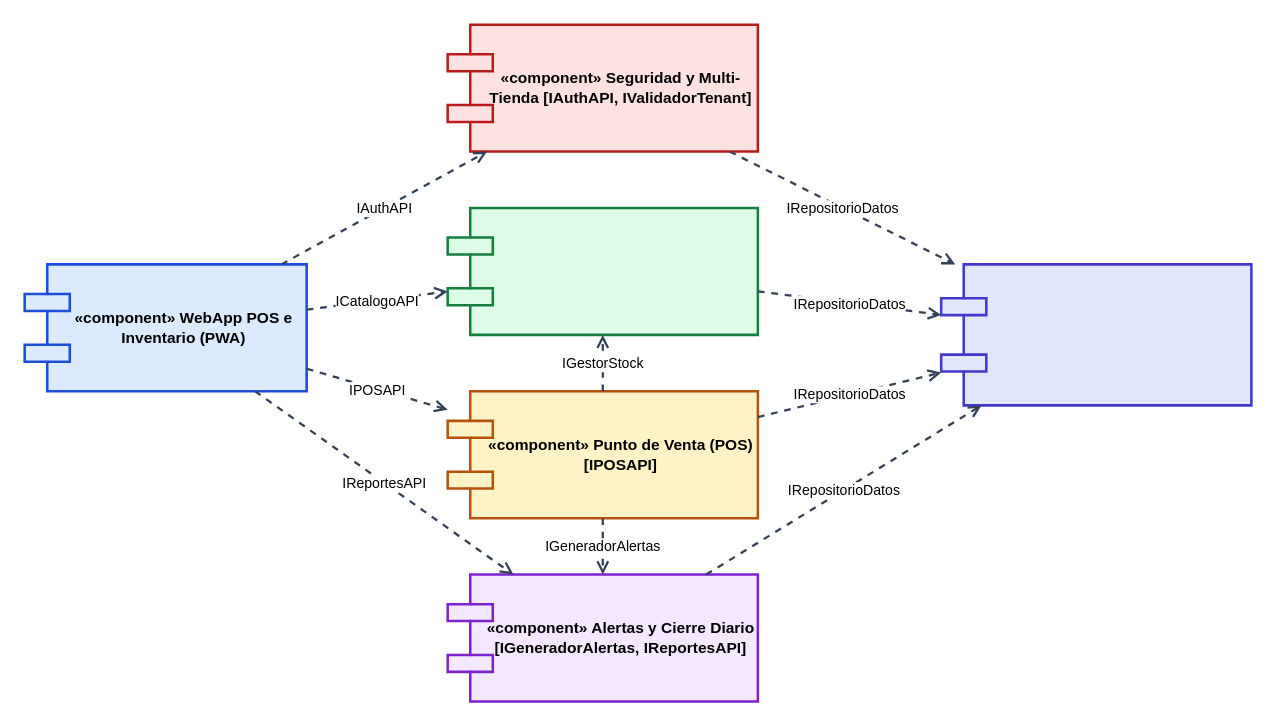
Some shapes in this 1277 by 728 pixel diagram are drawn without their labels. The shapes that lost their labels are listed below. From the top down, each one's box as (x1, y1, x2, y2) in pixels, then its label:
(446, 206, 758, 335): «component» Catálogo y Lotes [ICatalogoAPI, IGestorStock]
(939, 262, 1252, 406): «component» Persistencia Relacional (DAL) [IRepositorioDatos]
